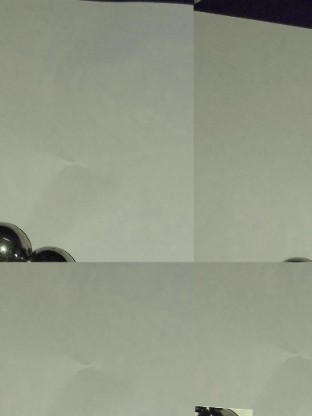ironball: (0, 214, 35, 263), (29, 243, 86, 261)
